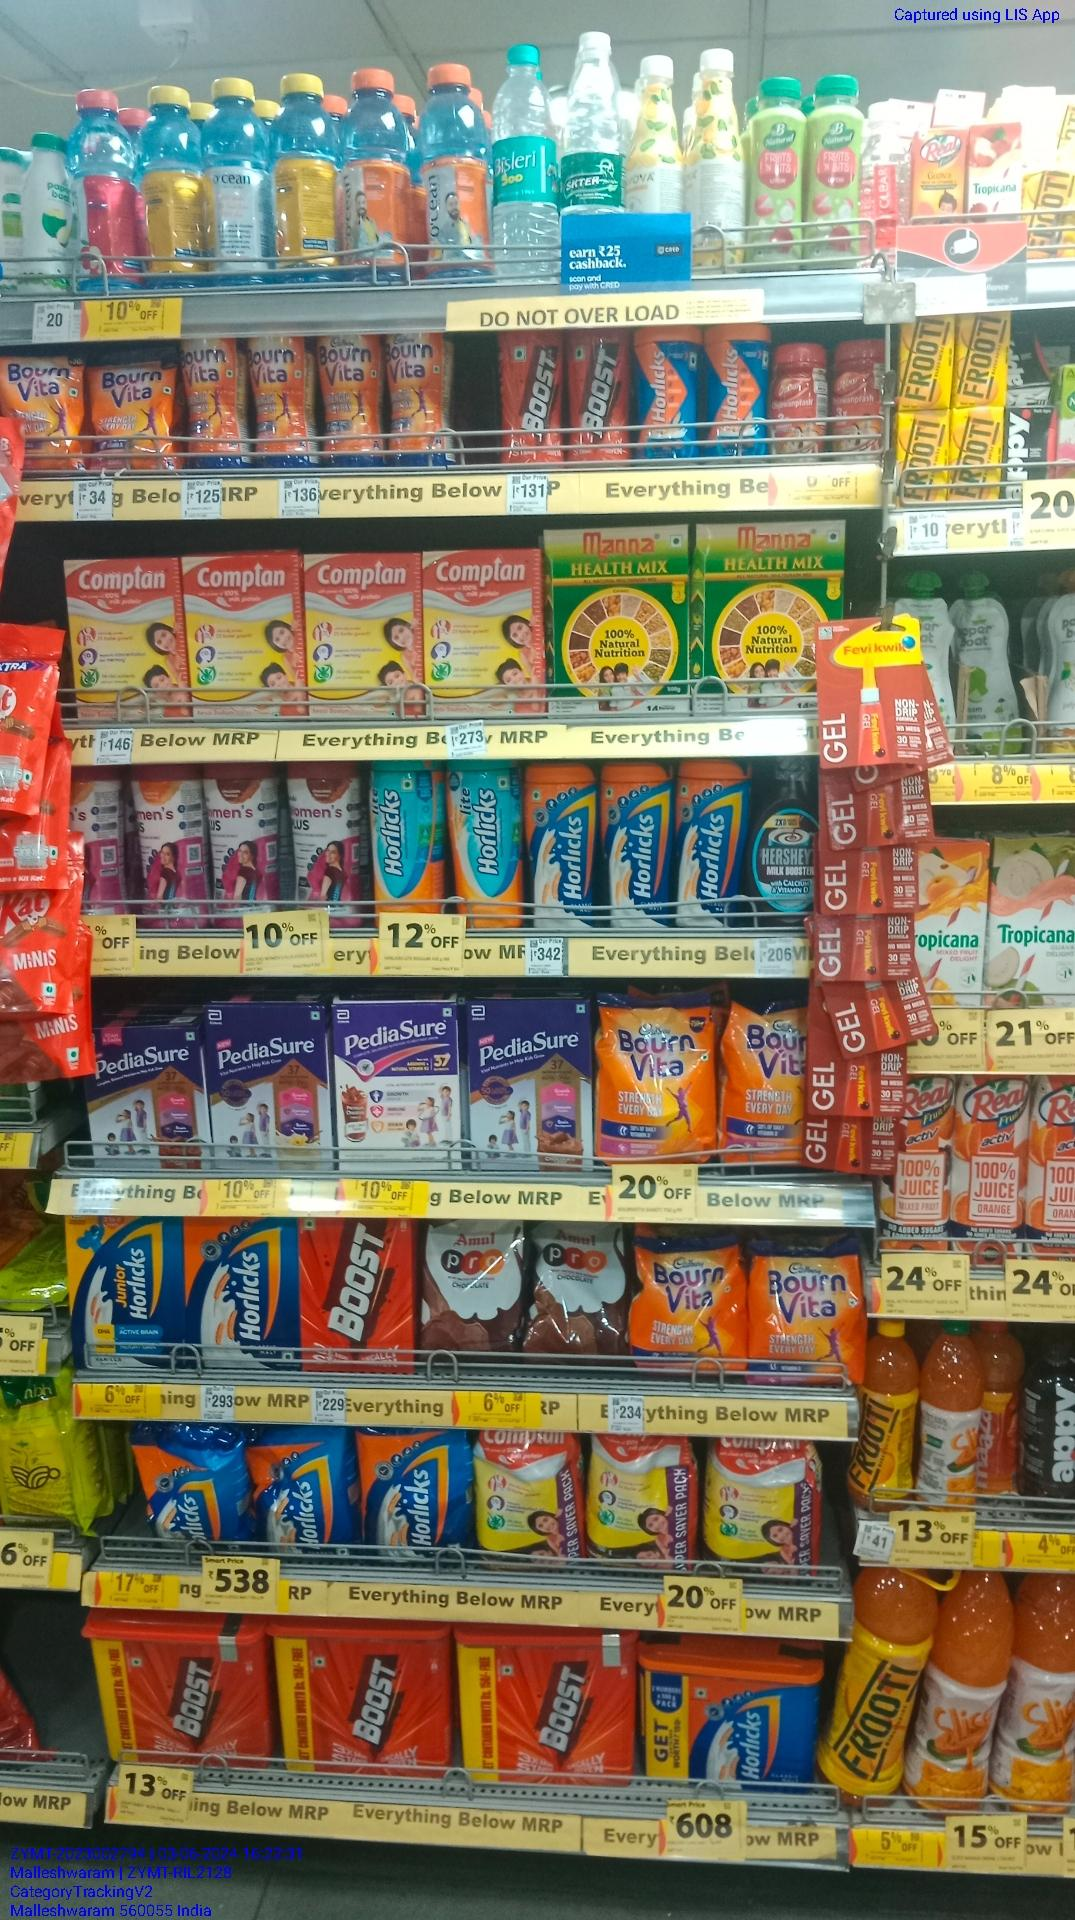BOURN_VITA_500_G_JAR: (388, 331, 454, 463), (253, 339, 317, 469), (324, 338, 386, 471), (186, 336, 247, 469)
BOURN_VITA_500_G_POUCH: (751, 1242, 868, 1386), (630, 1240, 745, 1375)
BOURN_VITA_750_G_POUCH: (599, 997, 716, 1155), (722, 1005, 805, 1163)
BOURN_VITA_75_G_POUCH: (91, 352, 179, 475), (21, 352, 84, 469)
COMPLAN_KESAR_BADAM_500_GMS_PACK: (63, 559, 189, 721), (426, 550, 543, 716), (309, 554, 422, 720), (190, 559, 306, 717)
COMPLAN_RC_POUCH_700_GMS_12: (711, 1440, 819, 1585), (474, 1432, 580, 1564), (588, 1440, 690, 1573)
HORLICKS_LITE_REGULAR_MALT_500_GM_JAR: (451, 766, 522, 927), (369, 764, 445, 913)
HORLICK_CLASSIC_MALT_200_G_JAR: (702, 324, 768, 464), (638, 326, 700, 460)
HORLICK_CLASSIC_MALT_500_G_JAR: (674, 760, 743, 931), (529, 769, 596, 930), (604, 767, 669, 930)
HORLICK_CLASSIC_MALT_500_G_PACK: (185, 1217, 298, 1367)
HORLICK_CLASSIC_MALT_750_G_POUCH: (137, 1431, 259, 1557), (364, 1431, 471, 1573), (260, 1431, 355, 1557)
HORLICK_MALT_1_KG_CONTAINER: (641, 1654, 819, 1796)
PEDIASURE_CHOCOLATE_500_G_PACK: (471, 998, 594, 1174), (96, 1035, 210, 1174)
